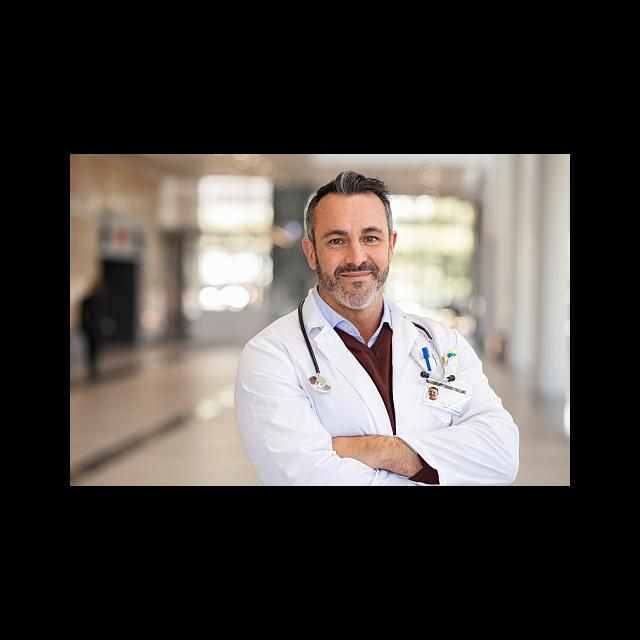male: (253, 171, 432, 302)
